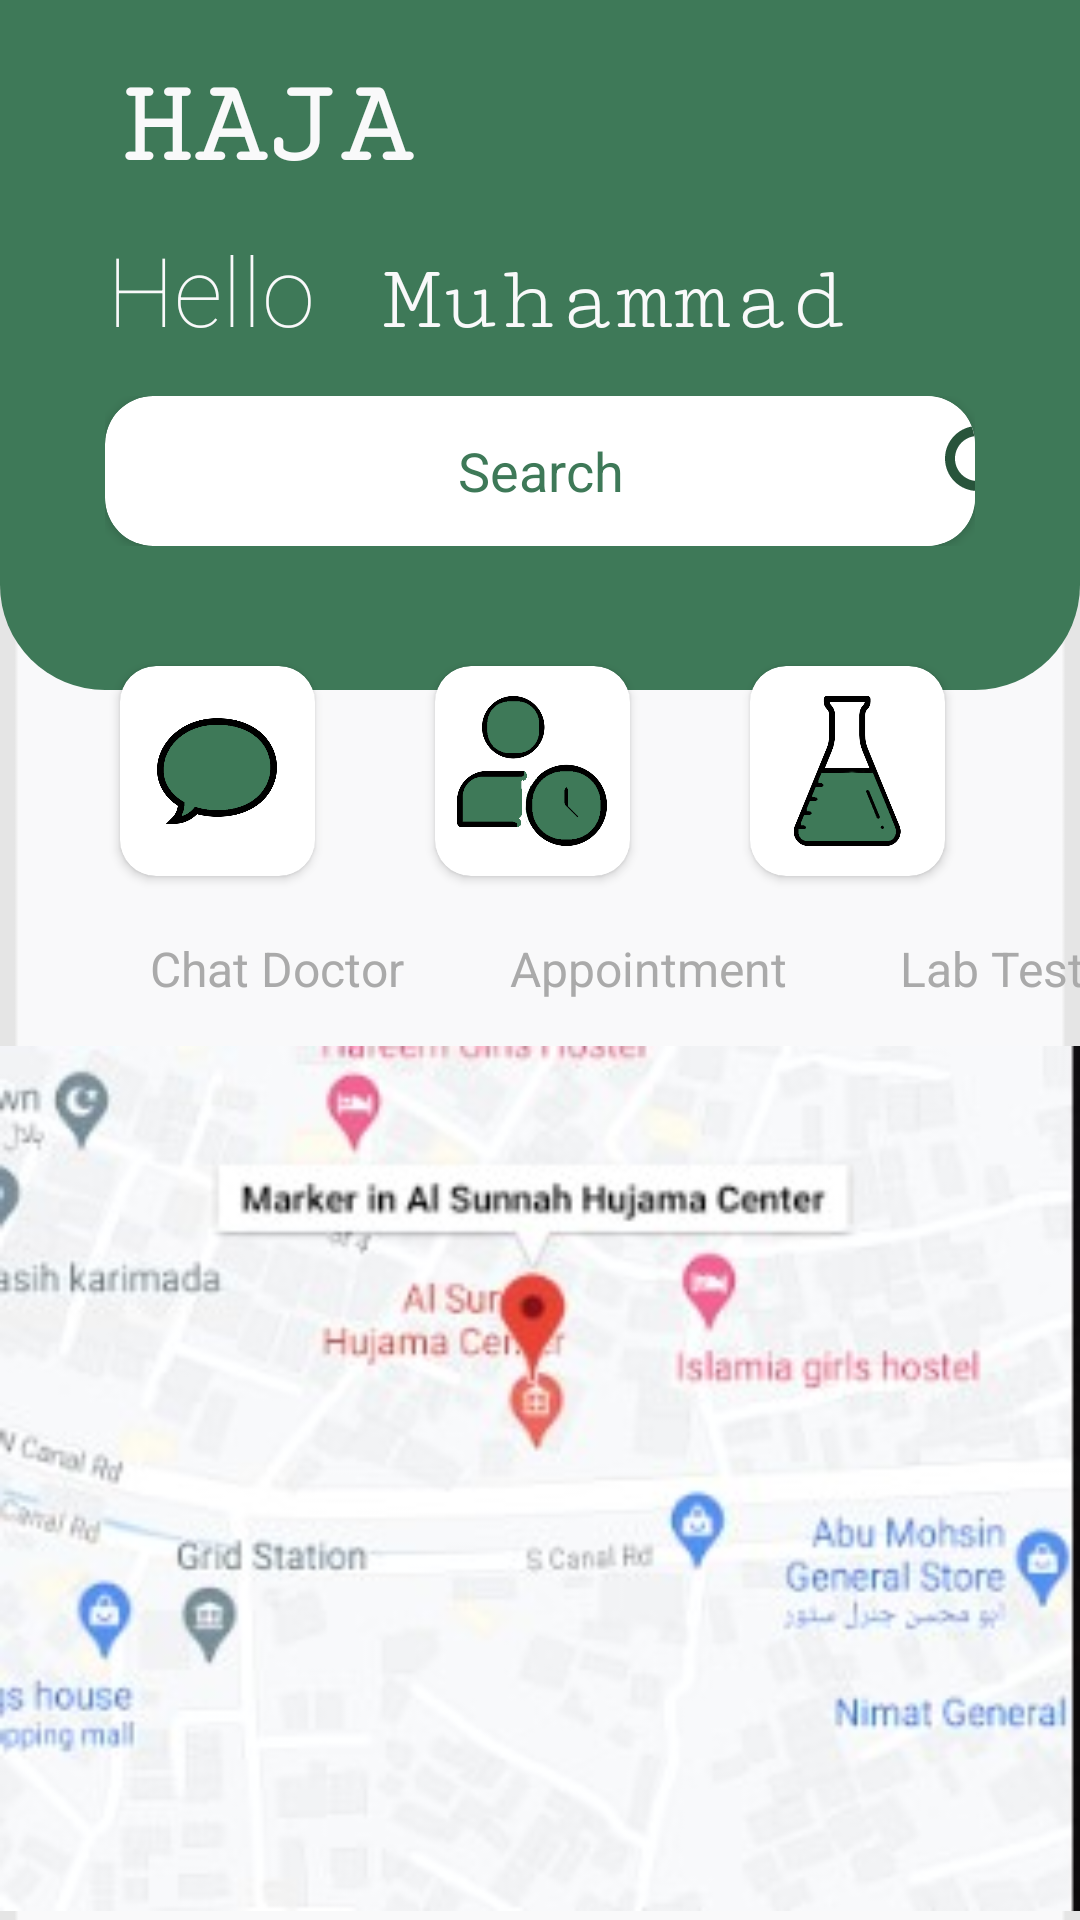

Locate icon controls on the screen. Image size 1080x1920, boxes as (left=x1, top=y1, right=x2, bottom=y2).
chat bubble: (left=157, top=718, right=277, bottom=824)
